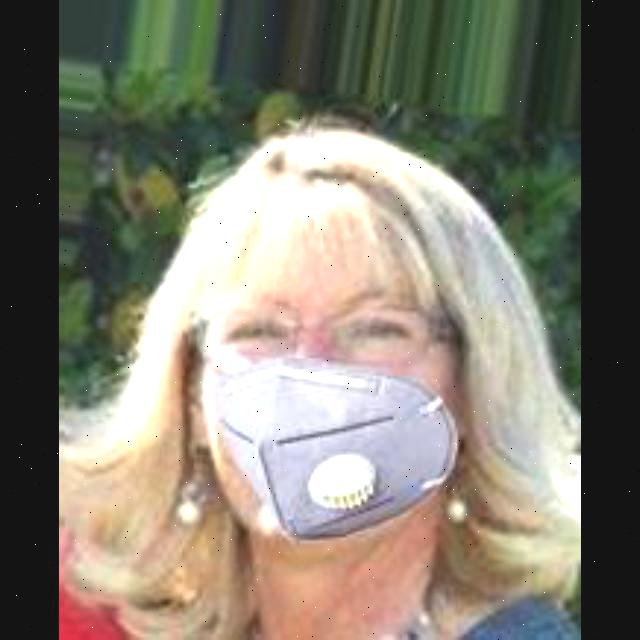suspicion: (165, 161, 458, 545)
